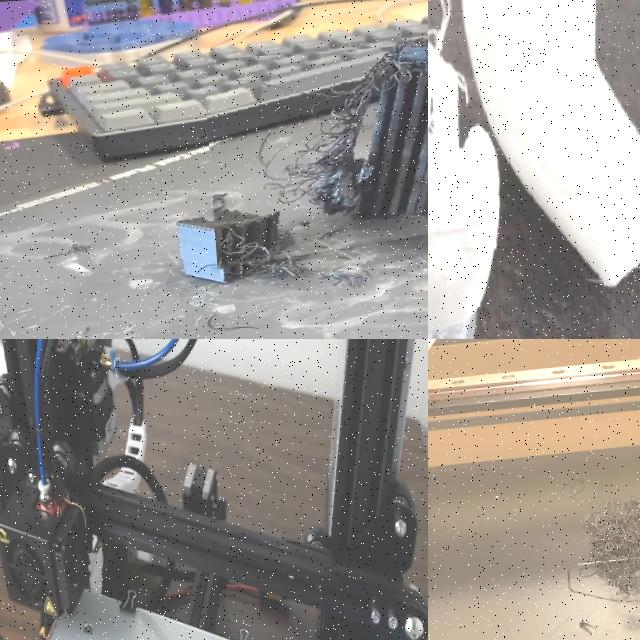spaghetti: (202, 41, 428, 270), (568, 498, 640, 629), (548, 475, 600, 511), (561, 615, 606, 640), (428, 517, 460, 539)
